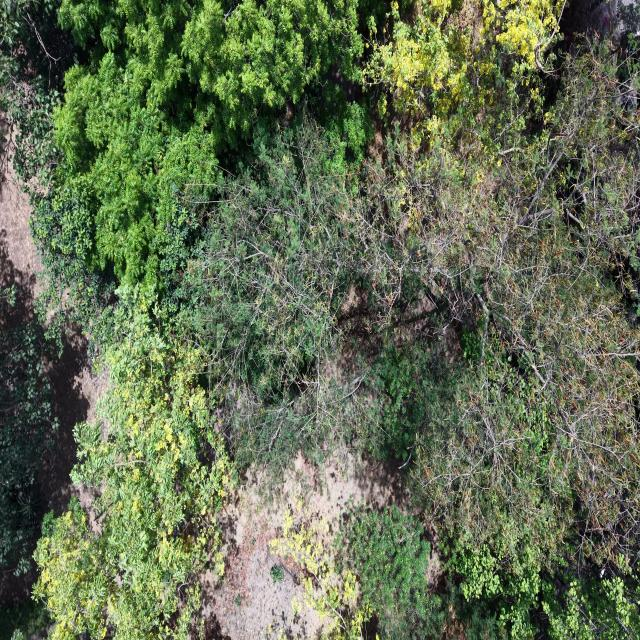DRY_AREA: (199, 447, 420, 639), (199, 452, 417, 639), (201, 453, 419, 639), (199, 452, 414, 639), (200, 454, 417, 639), (200, 510, 322, 639), (38, 325, 106, 513), (37, 327, 106, 512), (0, 162, 42, 320), (0, 166, 40, 321), (0, 154, 41, 292)
VEGETATION_TREE: (0, 0, 639, 639), (54, 1, 637, 555), (368, 2, 638, 559), (0, 1, 370, 345), (416, 43, 638, 559), (54, 0, 361, 286), (34, 294, 232, 639), (186, 111, 359, 474), (271, 505, 639, 639), (0, 1, 115, 345), (445, 546, 639, 639), (0, 288, 57, 574), (337, 505, 444, 639), (0, 1, 72, 193), (269, 509, 371, 639), (0, 598, 50, 639), (270, 565, 284, 585)
